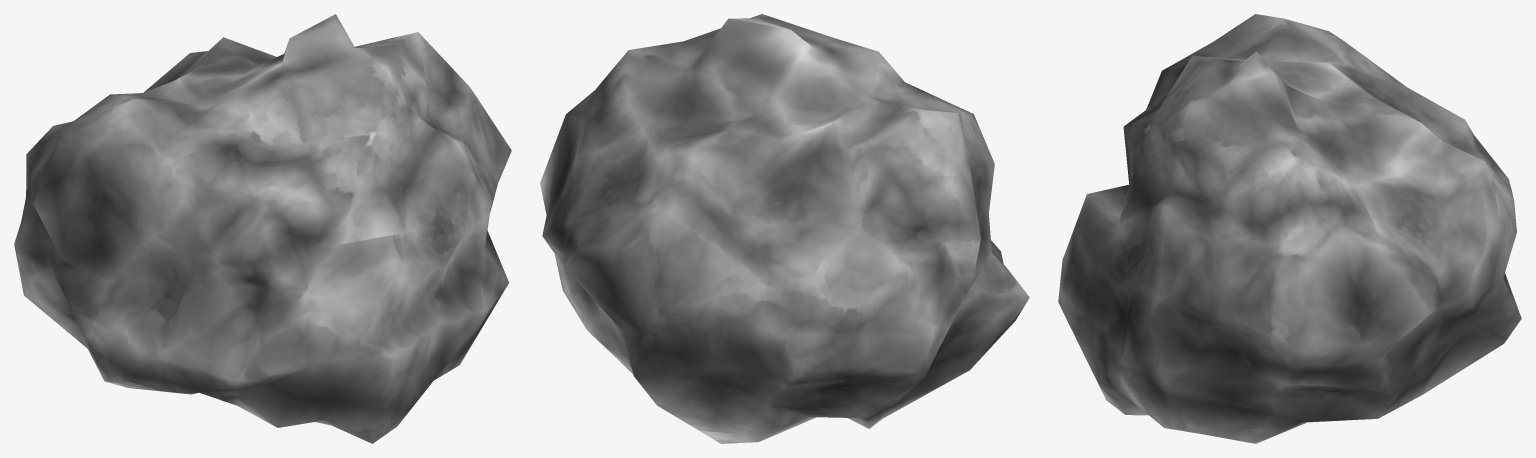
Rendered from rock3.glb.
3 views of the same model, side by side, from view 1: azimuth 30°, elevation 25°; view 2: azimuth 150°, elevation 25°; view 3: azimuth 270°, elevation 25° (orthographic).
Visible parts, largest first — view 1: Cube.003; view 2: Cube.003; view 3: Cube.003.
Boxes of the visible parts, <box> form: Cube.003: <box>14,14,511,443</box>; Cube.003: <box>540,14,1029,443</box>; Cube.003: <box>1058,14,1521,443</box>.
Size of the model in its own units: 1.67 by 1.25 by 1.5.
1 material, 1 textured.
